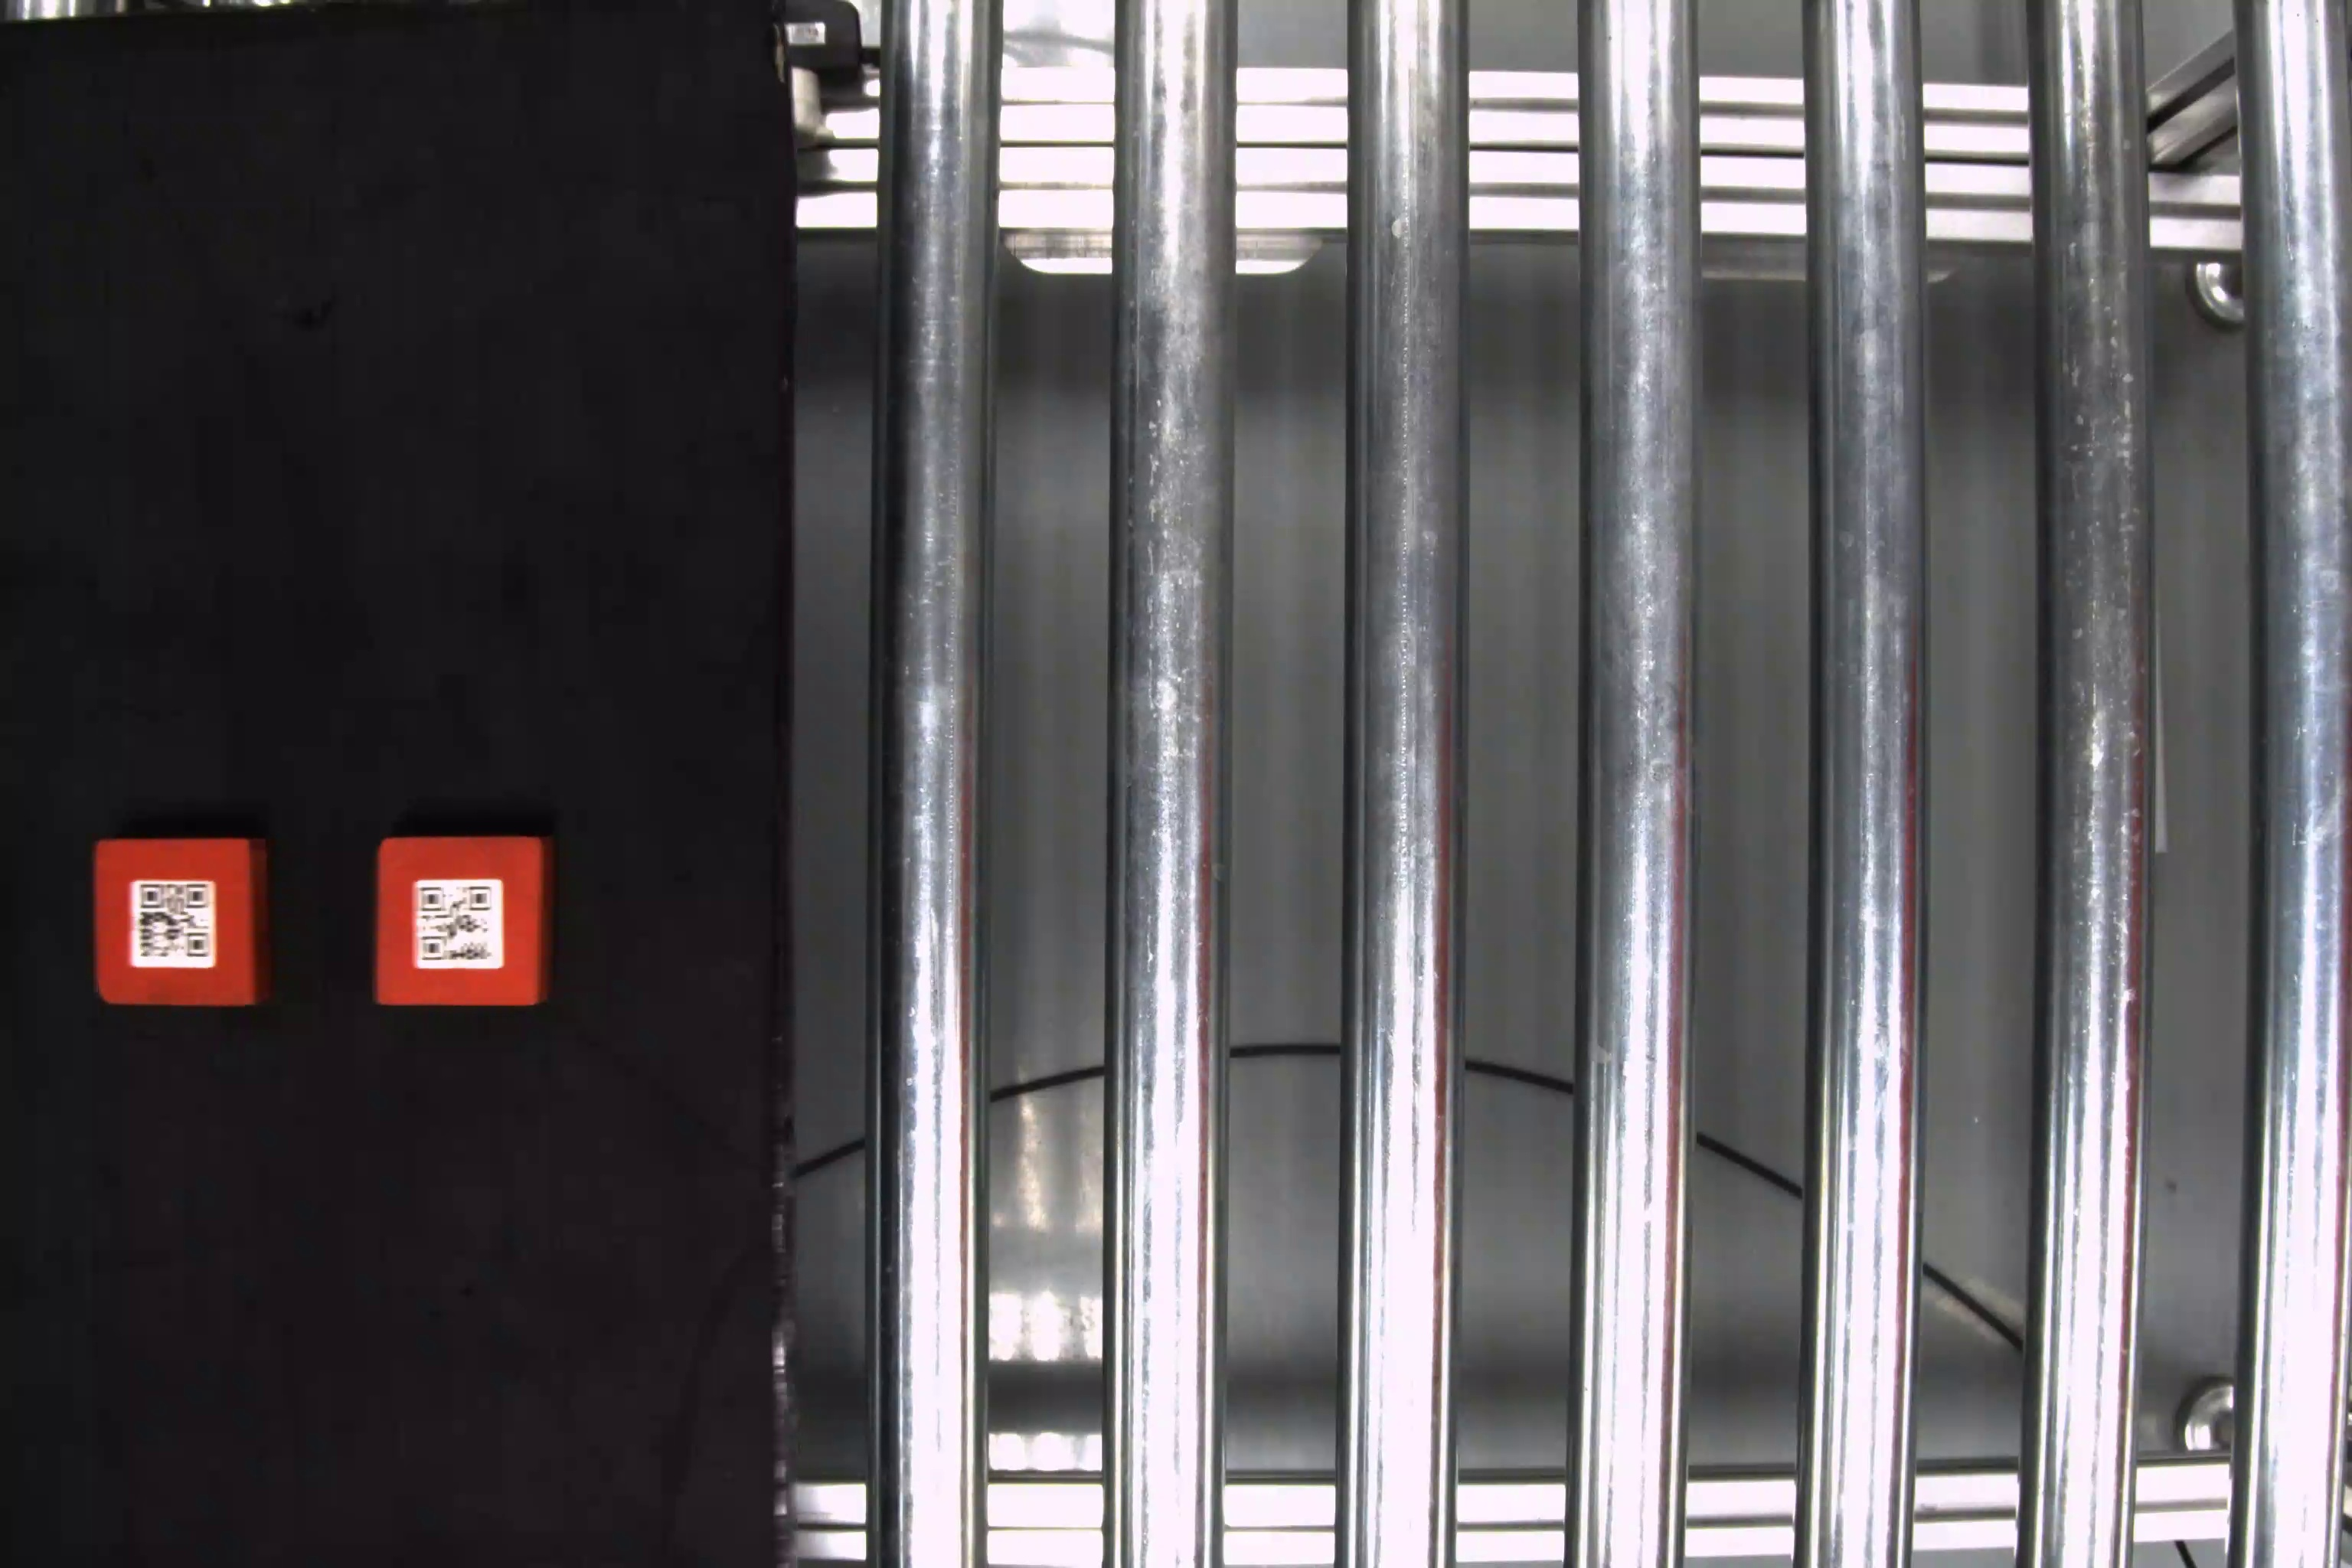wood: (374, 831, 563, 1015), (87, 835, 276, 1008)
